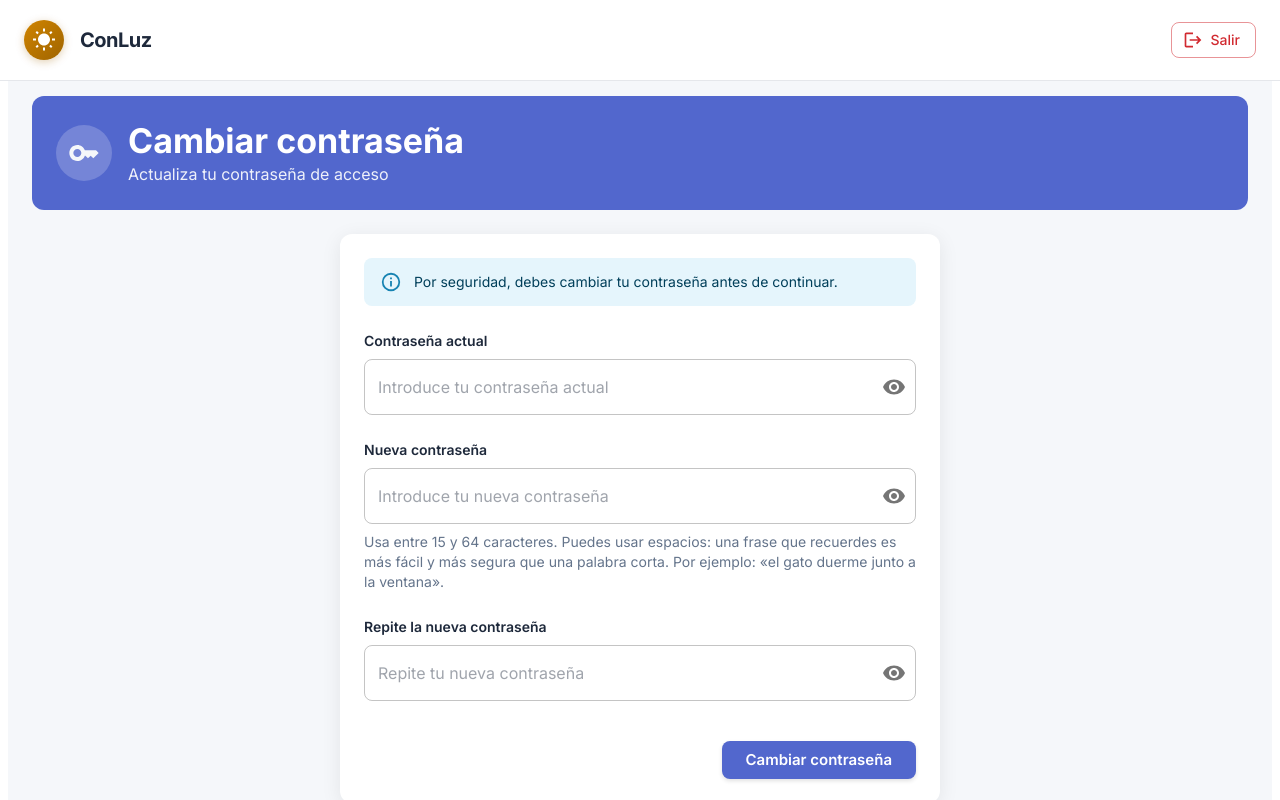
a caller who must change their password (#213) › logging out from the shell (AC3) › revokes the token on the backend, then ends the session on the login page
Step 1. Click the button "Salir" → {"x": 1213, "y": 40}, box x1=1170 y1=22 x2=1256 y2=58
(page scrolled)
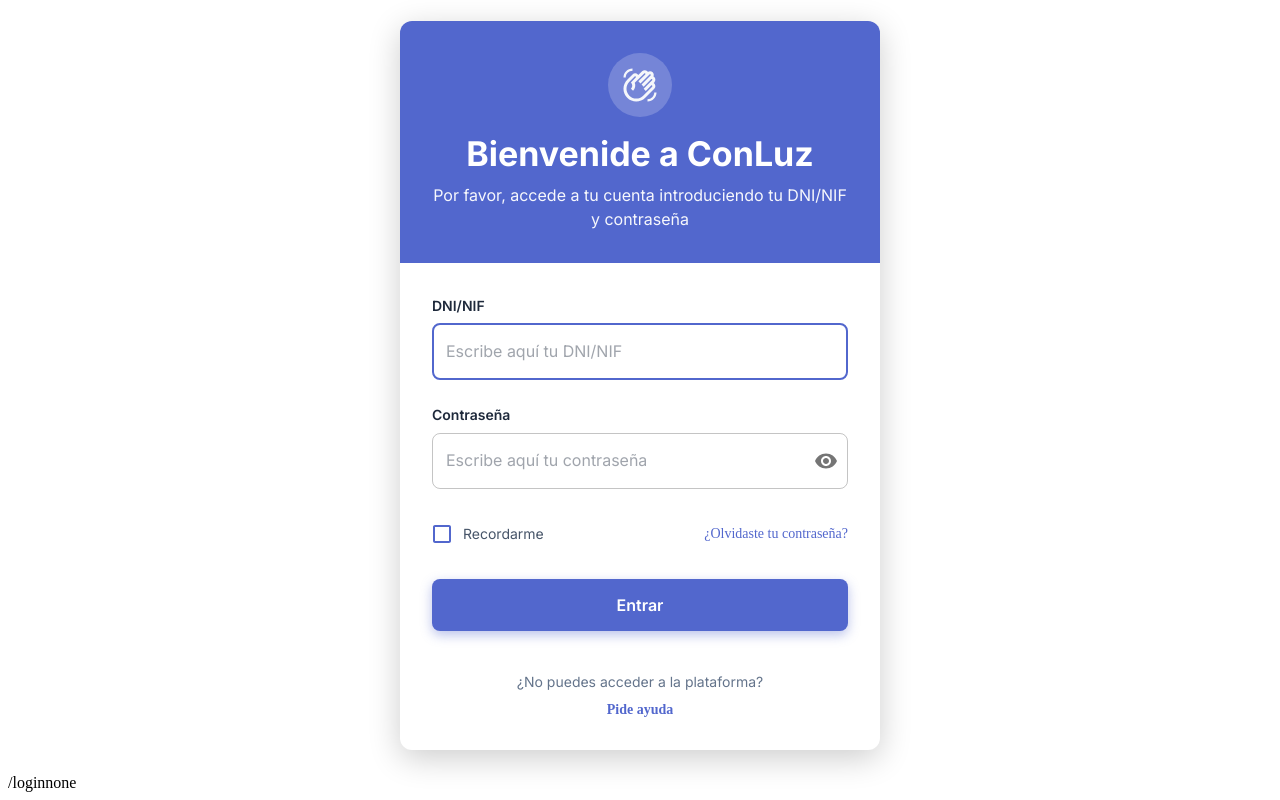
Check: the heading "Bienvenide a ConLuz" is shown, box x1=466 y1=133 x2=814 y2=174
Check: the text named "path" reads "/login", box x1=8 y1=774 x2=45 y2=791
Check: the text named "token" reads "none", box x1=45 y1=774 x2=76 y2=791
